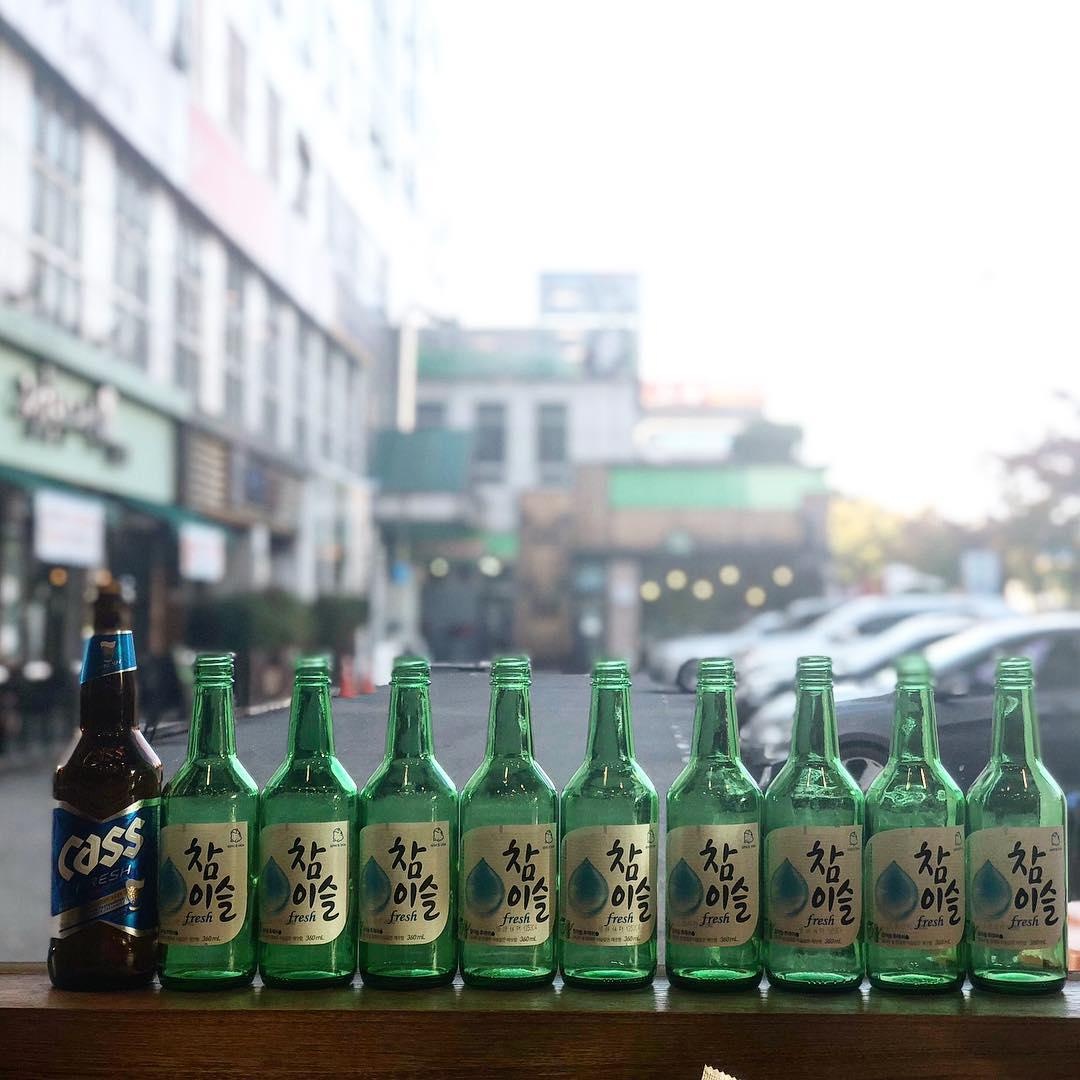soju: (155, 648, 1073, 1010)
